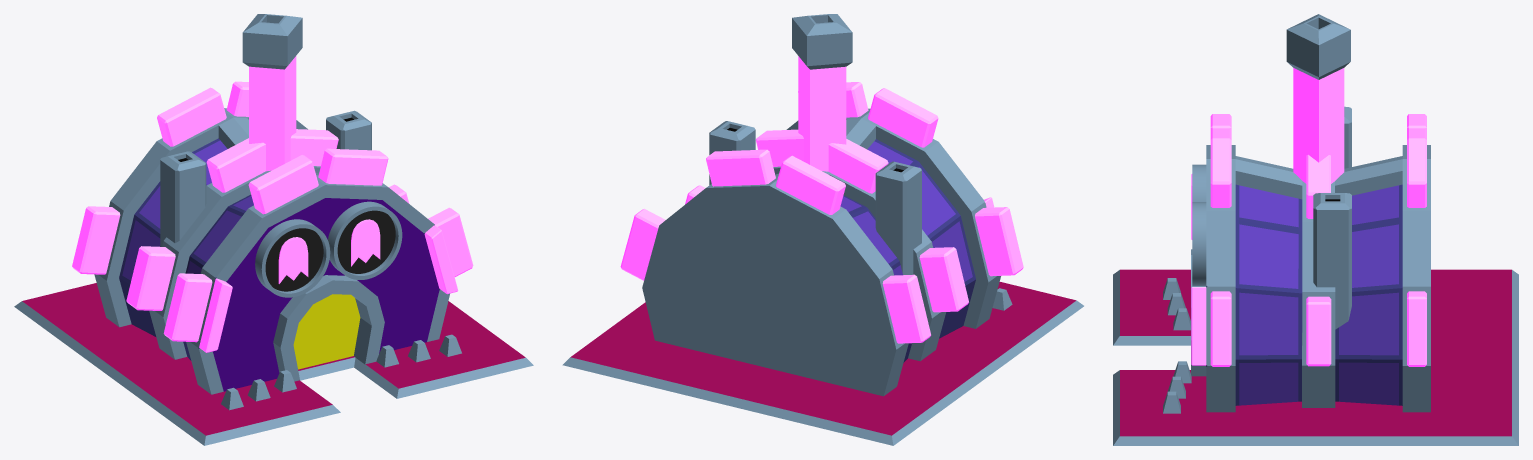
Rendered from Lodge6.fbx.
The picture shows the model from 3 angles, left to right: view 1: azimuth 30°, elevation 25°; view 2: azimuth 150°, elevation 25°; view 3: azimuth 270°, elevation 25°; orthographic projection. The views are drawn at different scales.
Visible parts, largest first — view 1: lodge6; view 2: lodge6; view 3: lodge6.
Part boxes in pixels (x1,y1,x2,y2): lodge6: (14, 14, 533, 445); lodge6: (562, 14, 1083, 445); lodge6: (1113, 14, 1518, 445).
Size of the model in its own units: 412 by 386 by 412.
